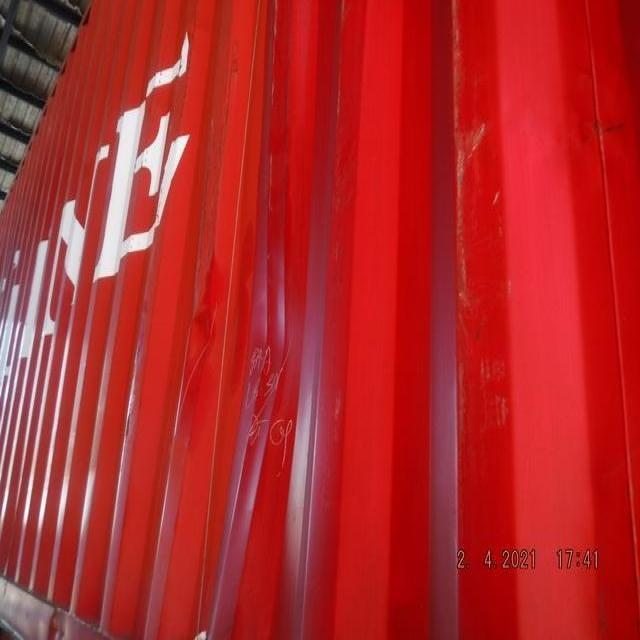dent: (144, 193, 361, 538)
